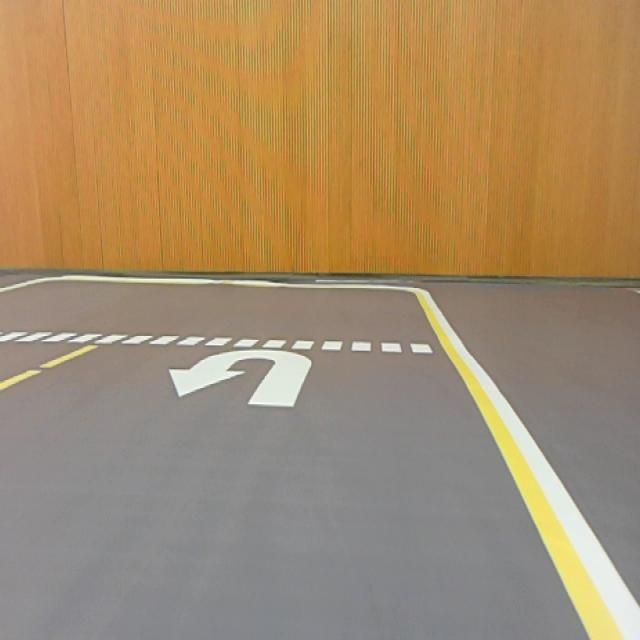left_lane: (0, 344, 109, 394)
right_lane: (419, 290, 640, 637)
